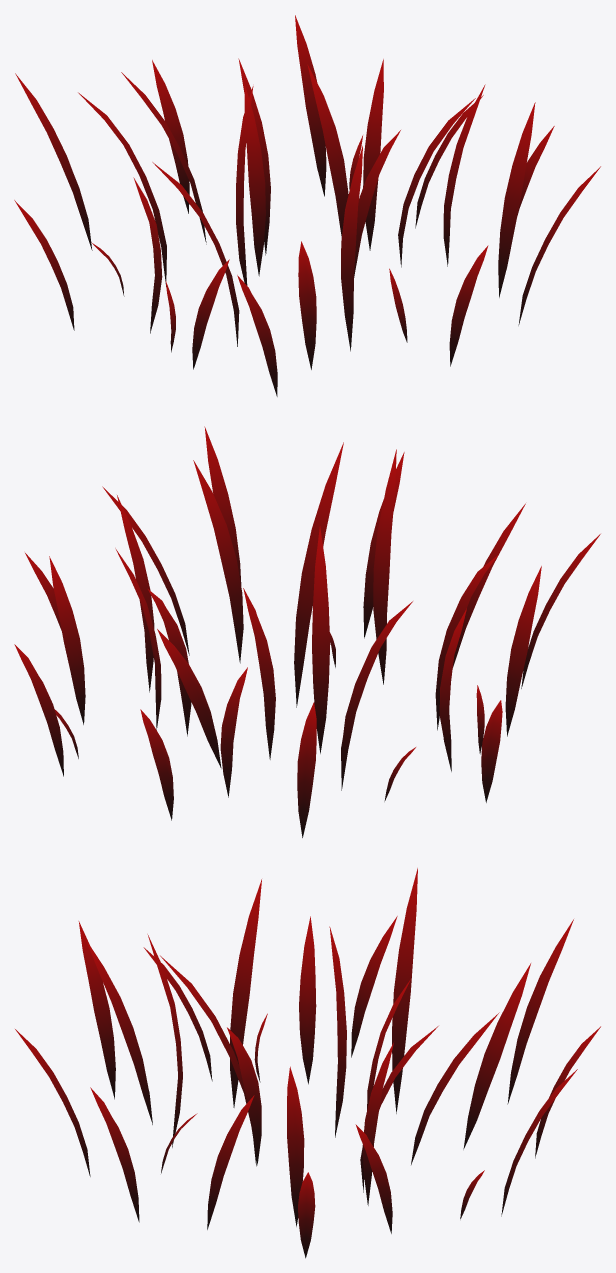
The model's file is grass.fbx.
The picture shows the model from 3 angles, top to bottom: view 1: azimuth 30°, elevation 25°; view 2: azimuth 150°, elevation 25°; view 3: azimuth 270°, elevation 25°; orthographic projection. The views are drawn at different scales.
Parts seen in each view (by area): view 1: grass; view 2: grass; view 3: grass.
Part boxes in pixels (x1,y1,x2,y2): grass: (14,15,600,396); grass: (14,426,600,837); grass: (15,868,600,1258).
Size of the model in its own units: 343 by 143 by 351.
